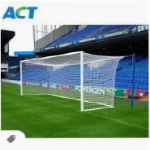goals: (18, 50, 120, 112)
